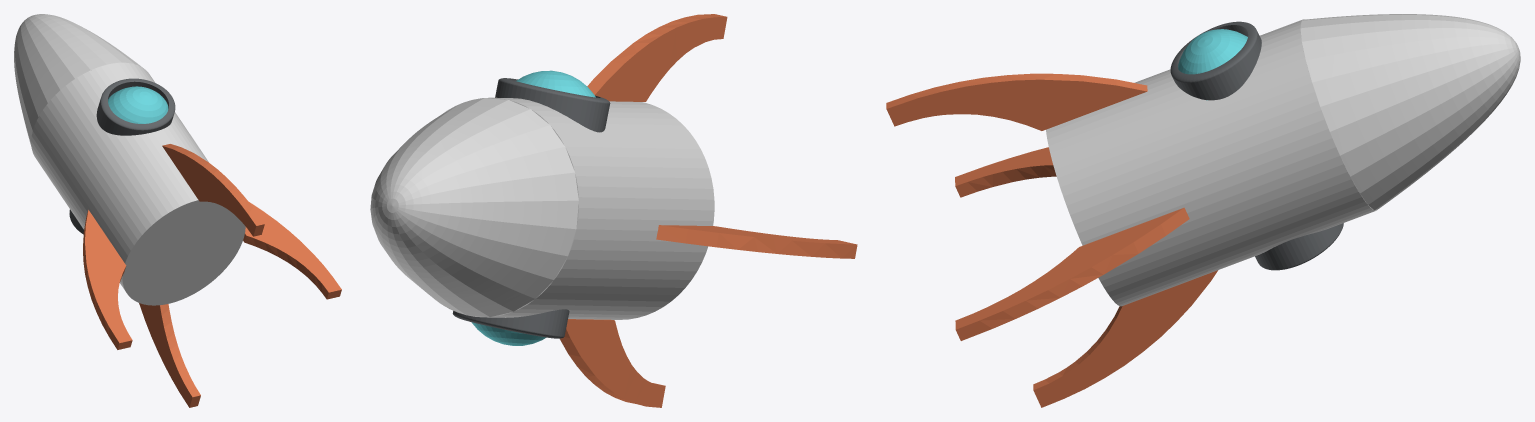
Rendered from Rocket2.glb.
The picture shows the model from 3 angles, left to right: view 1: azimuth 30°, elevation 25°; view 2: azimuth 150°, elevation 25°; view 3: azimuth 270°, elevation 25°; orthographic projection. The views are drawn at different scales.
Parts seen in each view (by area): view 1: Mesh_Mesh_head_geo.001_lambert2SG.001; view 2: Mesh_Mesh_head_geo.001_lambert2SG.001; view 3: Mesh_Mesh_head_geo.001_lambert2SG.001.
Boxes of the visible parts, left/top/right/bottom form: Mesh_Mesh_head_geo.001_lambert2SG.001: left=14, top=14, right=341, bottom=407; Mesh_Mesh_head_geo.001_lambert2SG.001: left=370, top=14, right=857, bottom=407; Mesh_Mesh_head_geo.001_lambert2SG.001: left=886, top=14, right=1520, bottom=407.
Bounding box in the file's own units: 26.02 × 31.13 × 45.98.
